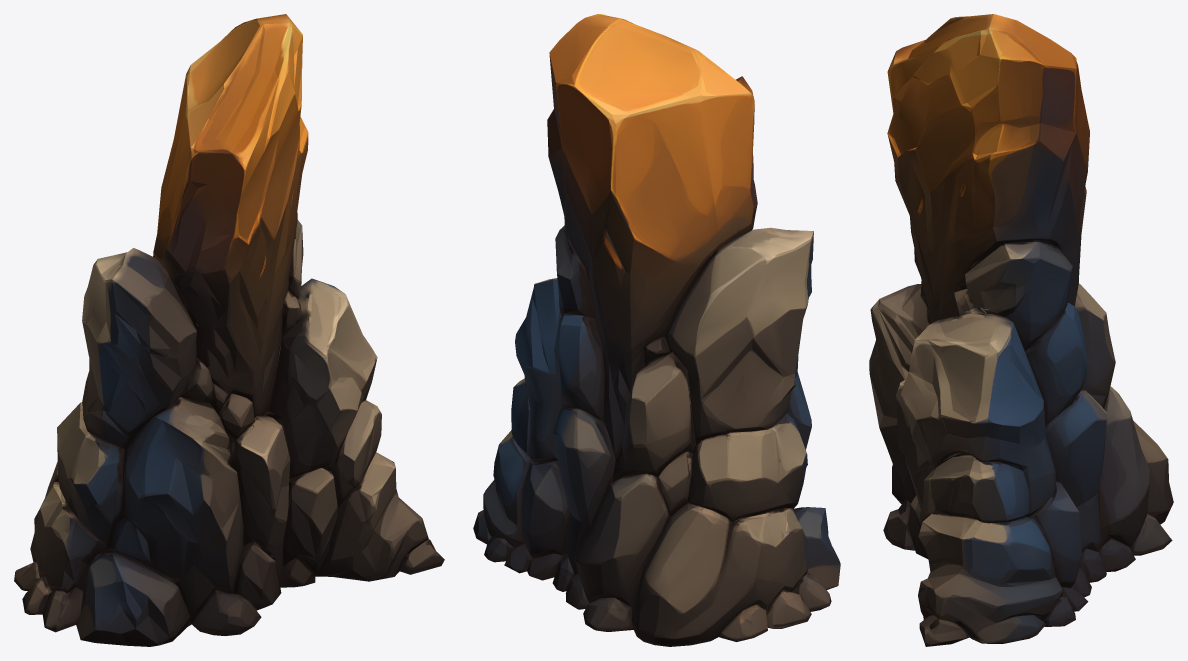
The model's file is SM_Ore23.fbx.
The picture shows the model from 3 angles, left to right: view 1: azimuth 30°, elevation 25°; view 2: azimuth 150°, elevation 25°; view 3: azimuth 270°, elevation 25°; orthographic projection. The views are drawn at different scales.
Parts seen in each view (by area): view 1: Ore23; view 2: Ore23; view 3: Ore23.
Part boxes in pixels (bbox=[...]): Ore23: bbox=[14, 14, 444, 646]; Ore23: bbox=[473, 14, 840, 646]; Ore23: bbox=[869, 14, 1173, 646].
Size of the model in its own units: 143 by 206 by 101.
1 material, 1 textured.
